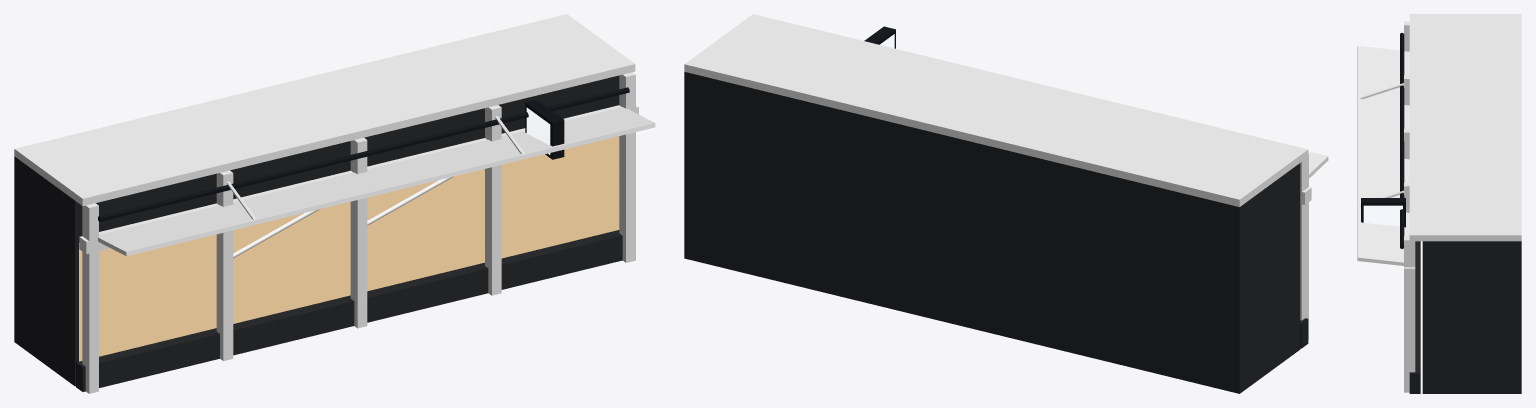
The model's file is shop_frame.gltf.
3 renders of one model, left to right at view 1: azimuth 30°, elevation 25°; view 2: azimuth 150°, elevation 25°; view 3: azimuth 270°, elevation 25°, orthographic. The views are drawn at different scales.
Visible parts, largest first — view 1: steel, shopwall, graphite, sheet, detail_dark, detail_steel, dark, sign; view 2: graphite, steel; view 3: steel, graphite, sheet, detail_dark, sign, dark, detail_steel.
Boxes of the visible parts, x1=… form: steel: x1=14, y1=14, x2=638, y2=393; shopwall: x1=79, y1=136, x2=619, y2=361; graphite: x1=14, y1=75, x2=622, y2=391; sheet: x1=98, y1=107, x2=655, y2=256; detail_dark: x1=98, y1=87, x2=629, y2=221; detail_steel: x1=227, y1=116, x2=524, y2=258; dark: x1=525, y1=100, x2=564, y2=159; sign: x1=526, y1=107, x2=550, y2=154; graphite: x1=684, y1=72, x2=1308, y2=393; steel: x1=684, y1=14, x2=1311, y2=340; steel: x1=1404, y1=14, x2=1521, y2=392; graphite: x1=1409, y1=241, x2=1521, y2=393; sheet: x1=1357, y1=46, x2=1409, y2=265; detail_dark: x1=1400, y1=33, x2=1404, y2=248; sign: x1=1363, y1=205, x2=1402, y2=226; dark: x1=1361, y1=198, x2=1405, y2=227; detail_steel: x1=1359, y1=83, x2=1403, y2=206.
Bounding box in the file's own units: 14 × 4.68 × 4.4.
